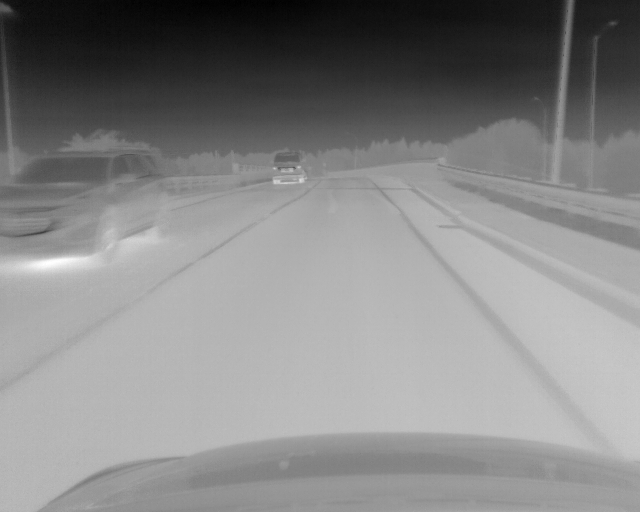car: (1, 148, 170, 267), (272, 151, 308, 184)
